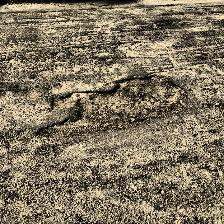pothole: (33, 73, 189, 139)
